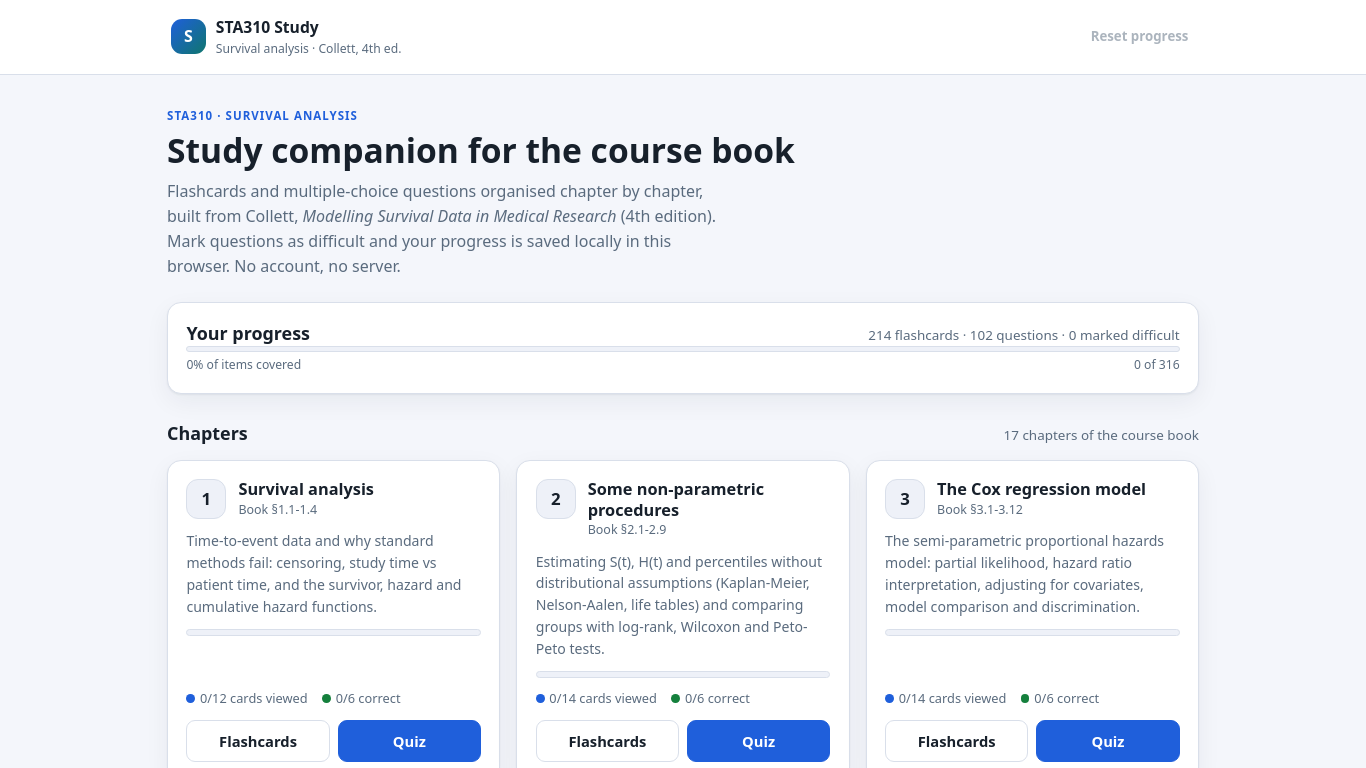
it: quiz flow › explains an incorrect answer
The width and height of the screenshot is (1366, 768).
Click the button "Quiz" below "§1.1-1.4" at (409, 741), box [338,720,481,762]
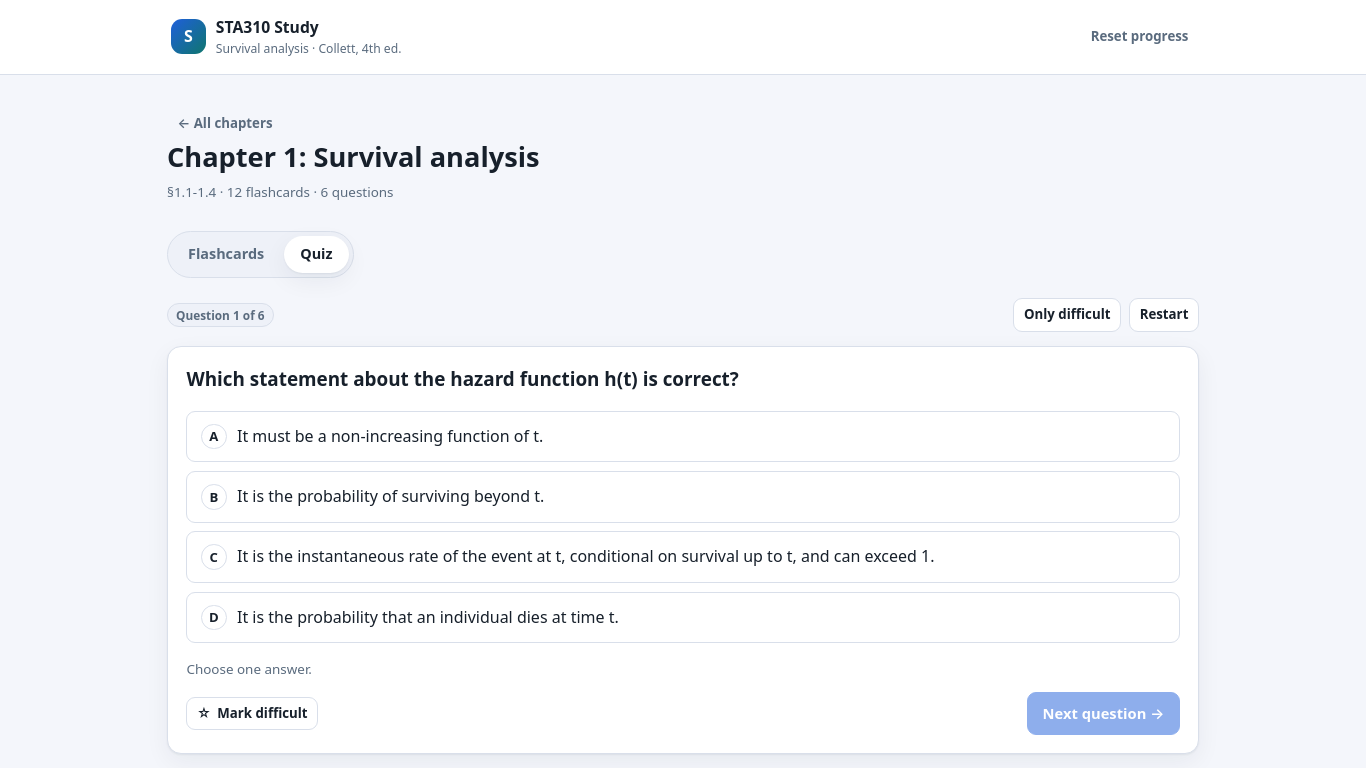
Click the button "It is the probability that an individual dies at time t." at (428, 617), box [186,592,1180,643]
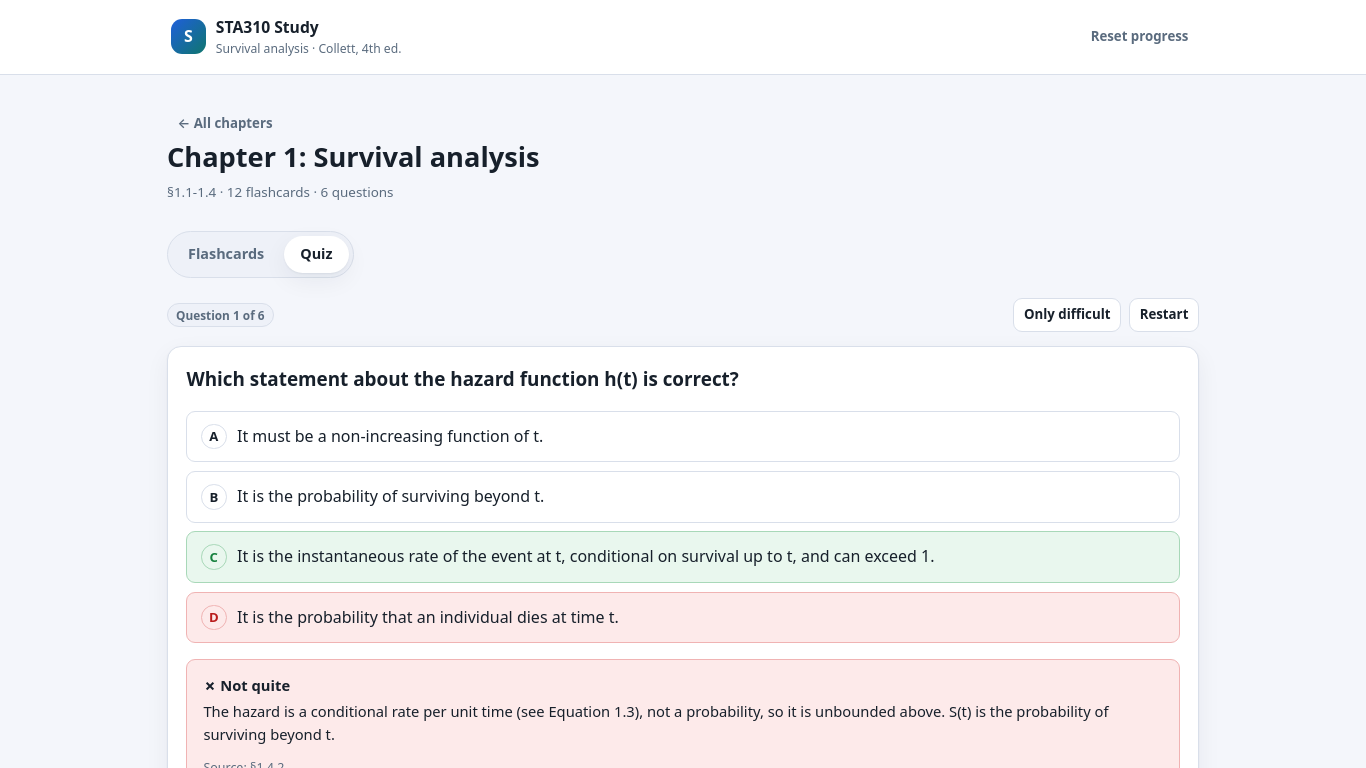
Result: the text "✗ Not quite" is shown at [203,675,290,695]
